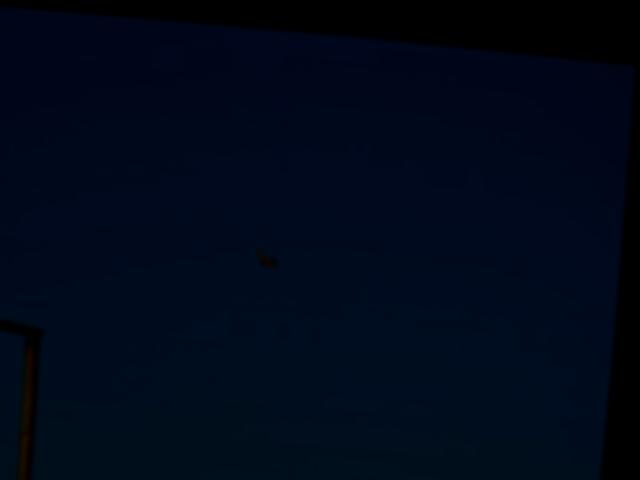iha: (260, 241, 290, 265)
